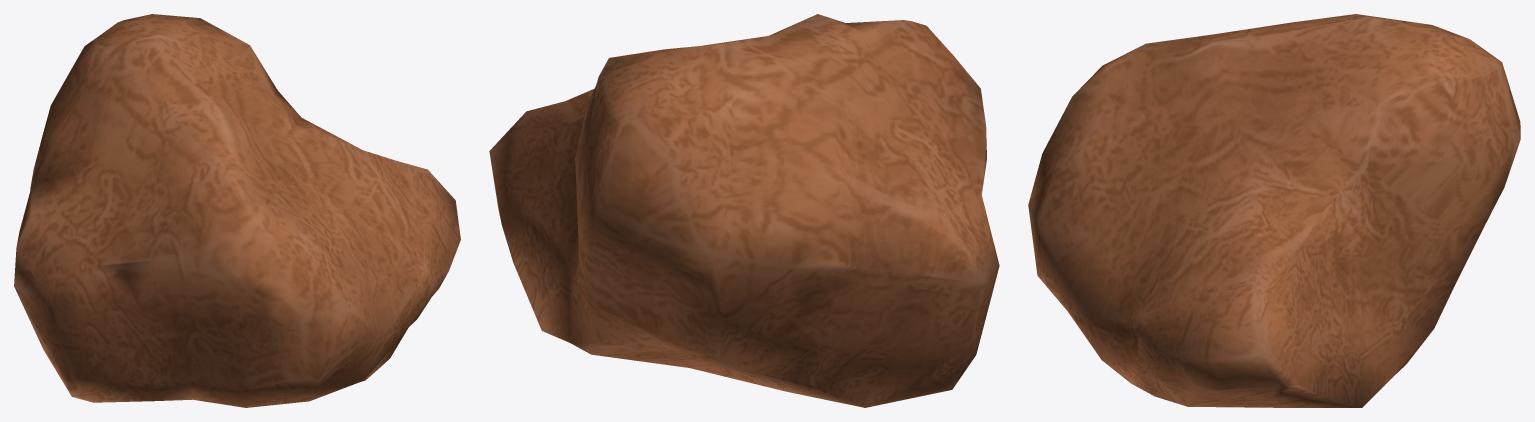
Rendered from ROK0110009.fbx.
The picture shows the model from 3 angles, left to right: view 1: azimuth 30°, elevation 25°; view 2: azimuth 150°, elevation 25°; view 3: azimuth 270°, elevation 25°; orthographic projection. The views are drawn at different scales.
Visible parts, largest first — view 1: smROK0110009; view 2: smROK0110009; view 3: smROK0110009.
Part boxes in pixels (<box>): smROK0110009: <box>14,14,460,407</box>; smROK0110009: <box>489,14,999,407</box>; smROK0110009: <box>1028,14,1520,407</box>.
Size of the model in its own units: 186 by 124 by 170.
Materials: 1 (1 with a texture image).
